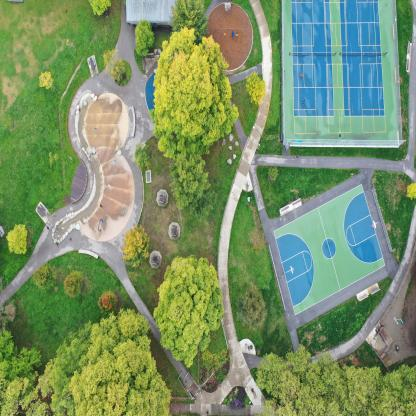Coniferous Tree: (169, 155, 213, 212), (0, 329, 40, 384), (234, 283, 268, 332), (167, 0, 209, 35), (31, 264, 56, 294), (191, 195, 220, 220), (64, 268, 86, 298), (132, 142, 153, 170), (97, 289, 118, 313), (265, 164, 279, 183)
Deciduous Tree: (155, 29, 229, 160), (151, 255, 230, 368), (91, 320, 172, 416), (48, 335, 107, 416), (294, 357, 346, 416), (256, 351, 296, 415), (345, 359, 382, 416), (381, 359, 416, 416), (120, 225, 153, 271), (3, 222, 32, 262), (25, 370, 50, 416), (133, 21, 155, 56), (34, 70, 56, 90), (404, 179, 416, 202)
